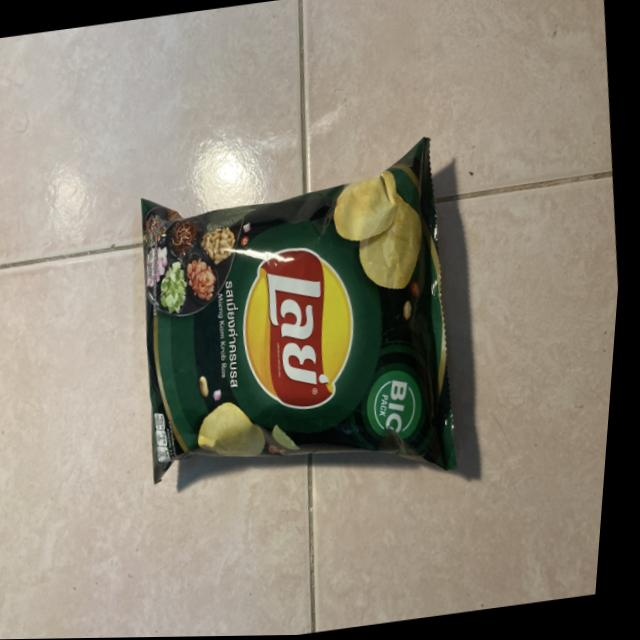Laygreen: (114, 127, 493, 511)
